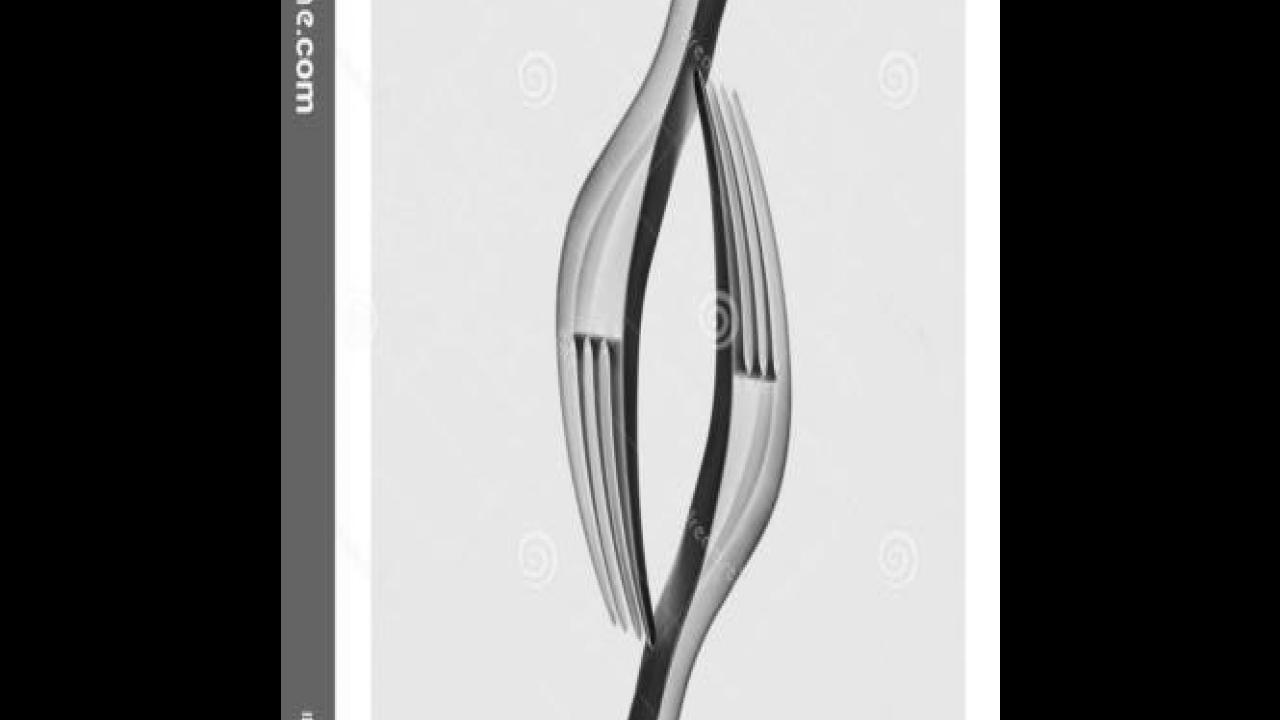fork: (555, 0, 782, 646), (576, 68, 794, 720)
